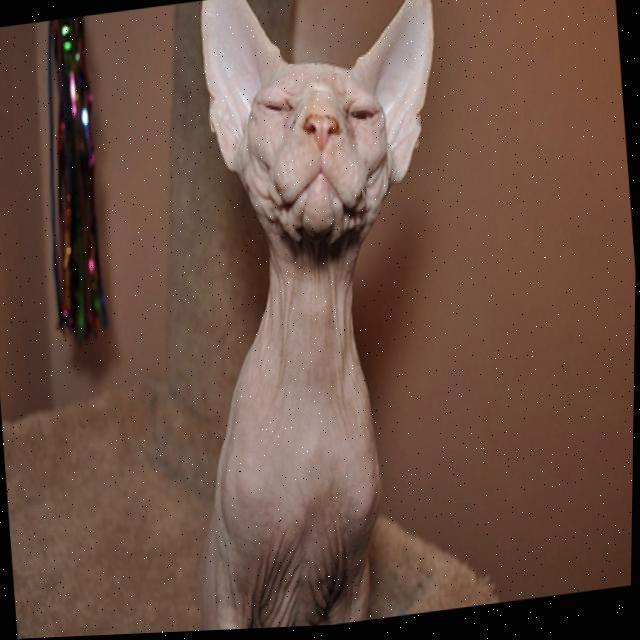Sphynx: (147, 0, 487, 635)
